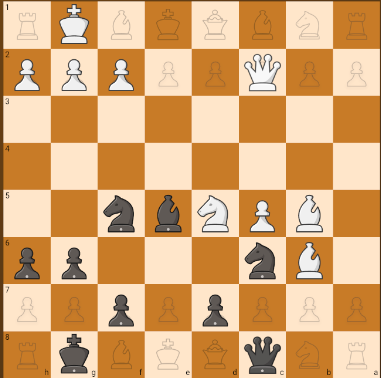bb: (150, 193, 191, 237)
bk: (52, 333, 98, 376)
bn: (100, 192, 141, 237), (244, 238, 278, 280)
bp: (55, 240, 94, 281), (8, 242, 47, 280), (101, 291, 140, 327), (200, 291, 234, 328)
bq: (239, 334, 285, 375)
wb: (289, 193, 330, 235), (293, 240, 328, 281)
wk: (51, 3, 97, 47), (242, 51, 283, 92)
wn: (194, 193, 234, 234)
wp: (3, 51, 48, 94), (101, 51, 143, 94), (241, 194, 283, 234), (54, 57, 93, 91)
